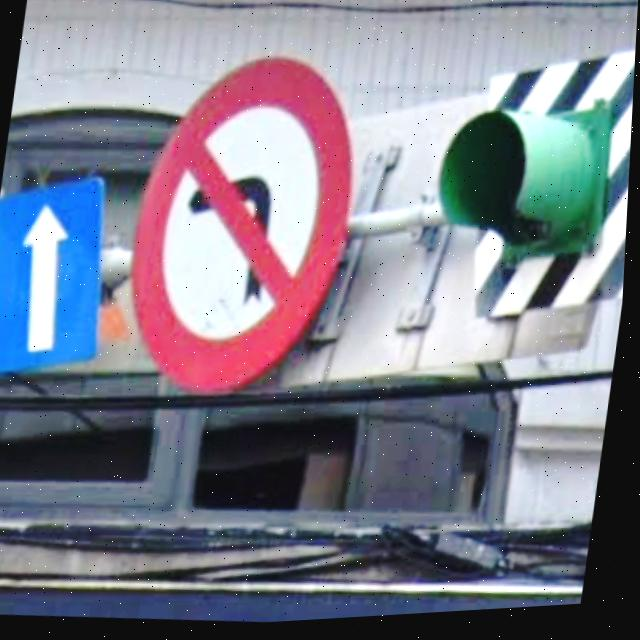noturnleft: (131, 59, 358, 399)
